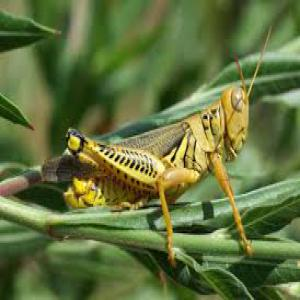locust: (39, 37, 266, 221)
